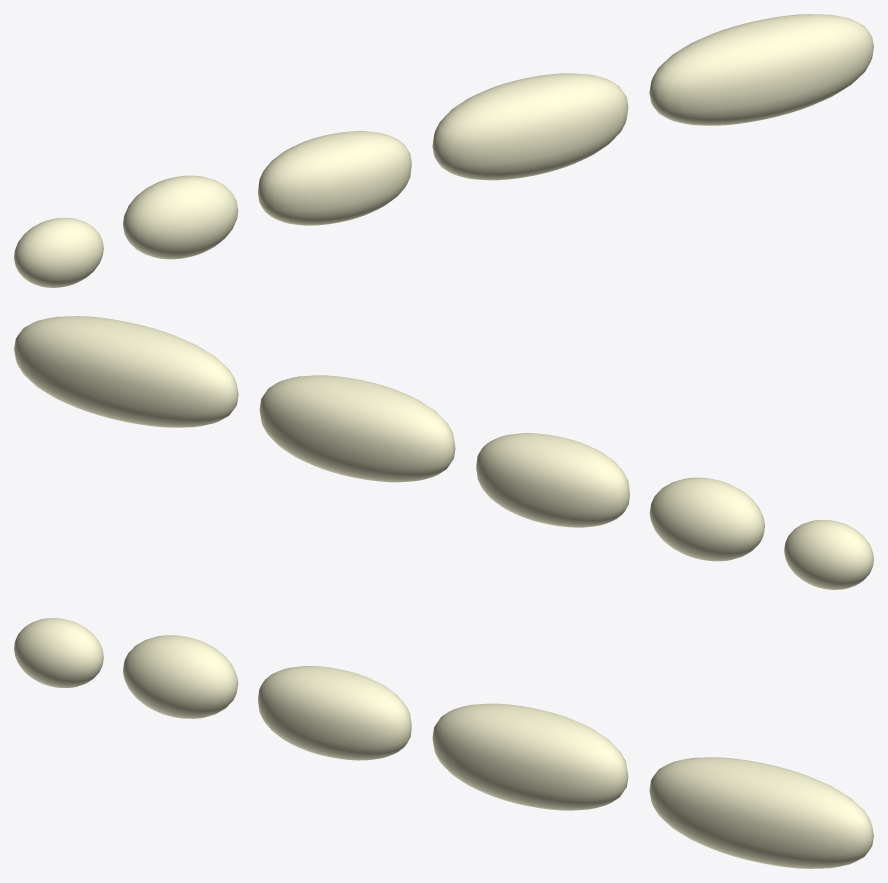
The model's file is lineup.glb.
3 renders of one model, top to bottom at view 1: azimuth 30°, elevation 25°; view 2: azimuth 150°, elevation 25°; view 3: azimuth 330°, elevation 25°, orthographic.
Visible parts, largest first — view 1: item.004, item.003, item.002, item.001, item; view 2: item.004, item.003, item.002, item.001, item; view 3: item.004, item.003, item.002, item.001, item.
Boxes of the visible parts, x1,y1,x2,y2 form: item.004: (649,14,873,125); item.003: (432,73,628,180); item.002: (258,131,411,225); item.001: (123,175,238,259); item: (14,218,103,287); item.004: (14,316,238,427); item.003: (259,375,455,482); item.002: (476,433,629,527); item.001: (649,477,764,561); item: (784,520,873,589); item.004: (649,757,873,868); item.003: (432,703,628,810); item.002: (258,666,411,760); item.001: (123,635,238,718); item: (14,618,103,687).
Size of the model in its own units: 0.0982 by 0.00939 by 0.00939.
